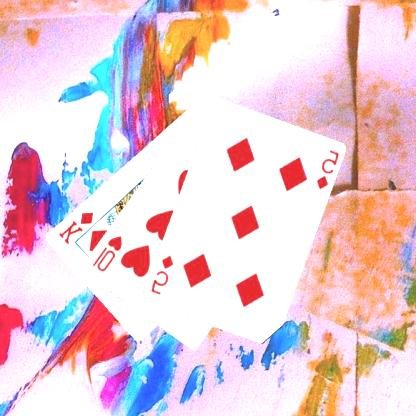10H: (90, 232, 125, 274)
5D: (149, 252, 176, 297), (315, 147, 342, 191)
KD: (57, 209, 96, 246)
